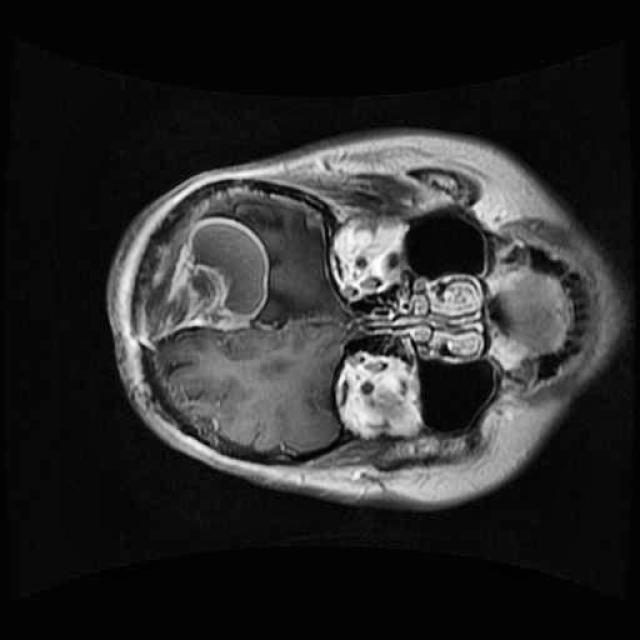Non-Tumor: (132, 201, 276, 351)
